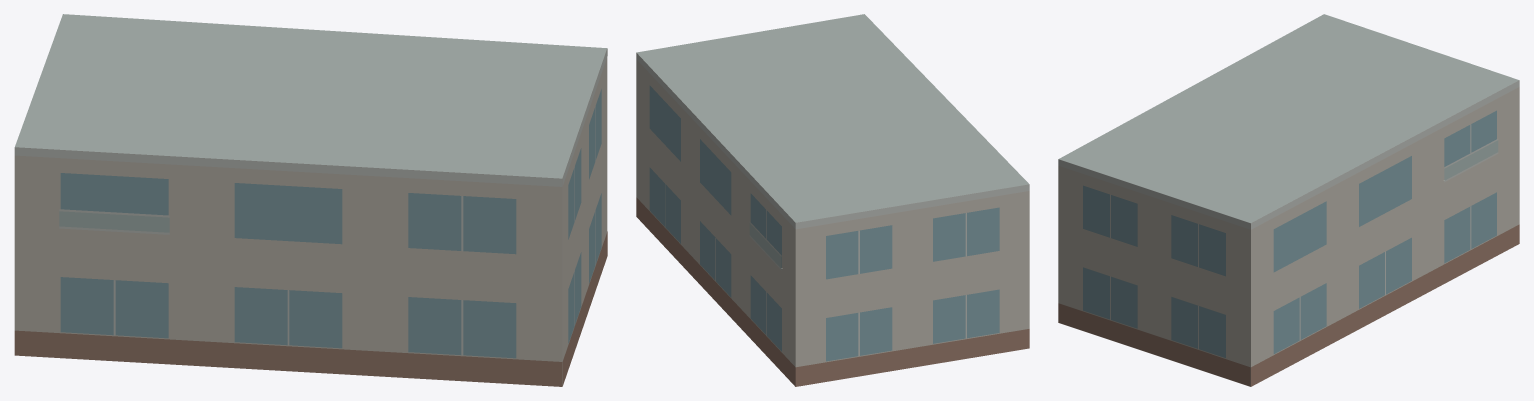
The model's file is survey-upis-32890245.glb.
3 renders of one model, left to right at view 1: azimuth 30°, elevation 25°; view 2: azimuth 150°, elevation 25°; view 3: azimuth 270°, elevation 25°, orthographic. The views are drawn at different scales.
Parts seen in each view (by area): view 1: survey-upis-32890245.tmp; view 2: survey-upis-32890245.tmp; view 3: survey-upis-32890245.tmp.
Boxes of the visible parts, box(x1,y1,x2,y2) form: survey-upis-32890245.tmp: box(14, 14, 607, 386); survey-upis-32890245.tmp: box(636, 14, 1029, 386); survey-upis-32890245.tmp: box(1058, 14, 1519, 386).
Bounding box in the file's own units: 16.75 × 6.1 × 15.59.
